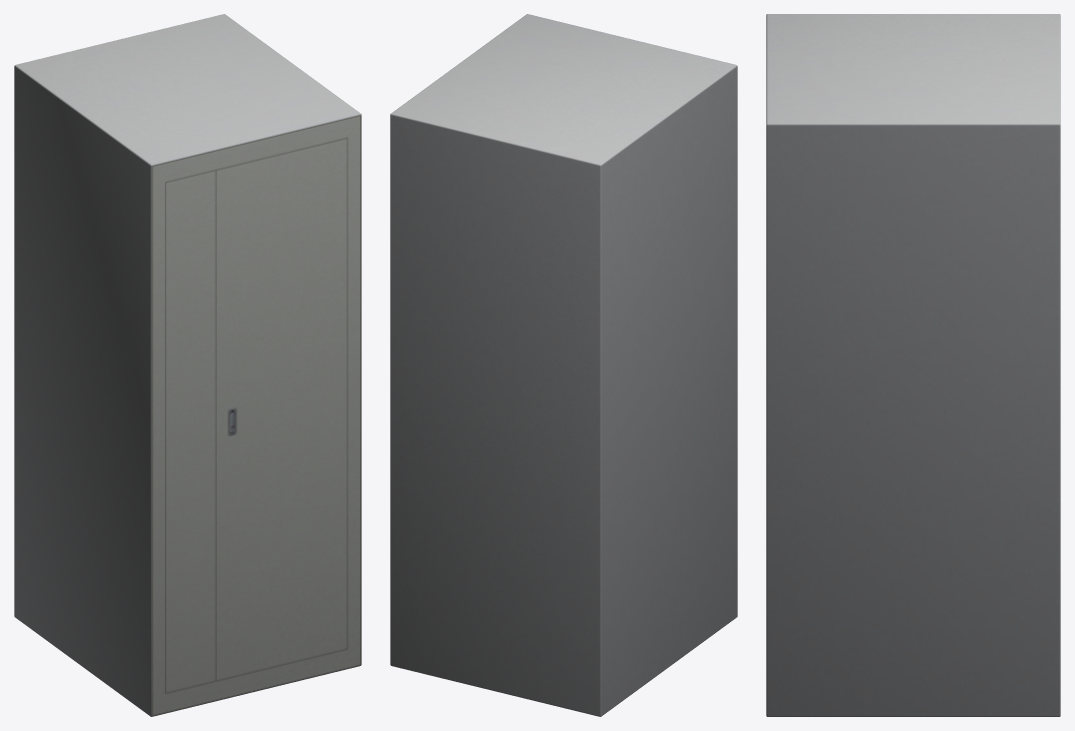
Rendered from ups80.obj.
The picture shows the model from 3 angles, left to right: view 1: azimuth 30°, elevation 25°; view 2: azimuth 150°, elevation 25°; view 3: azimuth 270°, elevation 25°; orthographic projection. The views are drawn at different scales.
Visible parts, largest first — view 1: ChamferBox45; view 2: ChamferBox45; view 3: ChamferBox45.
Boxes of the visible parts, x1,y1,x2,y2 form: ChamferBox45: (14,14,361,716); ChamferBox45: (390,14,737,716); ChamferBox45: (766,14,1060,716).
Size of the model in its own units: 80 by 200 by 90.
